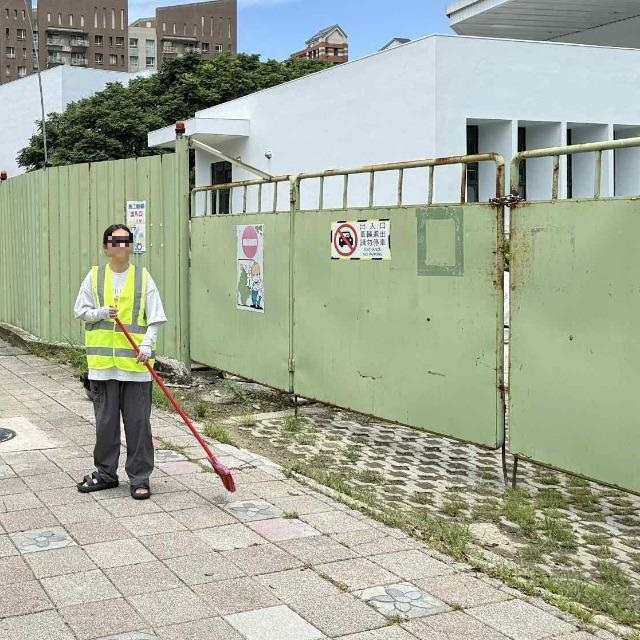NoHelmet: (99, 221, 140, 265)
Vest: (79, 265, 162, 384)
